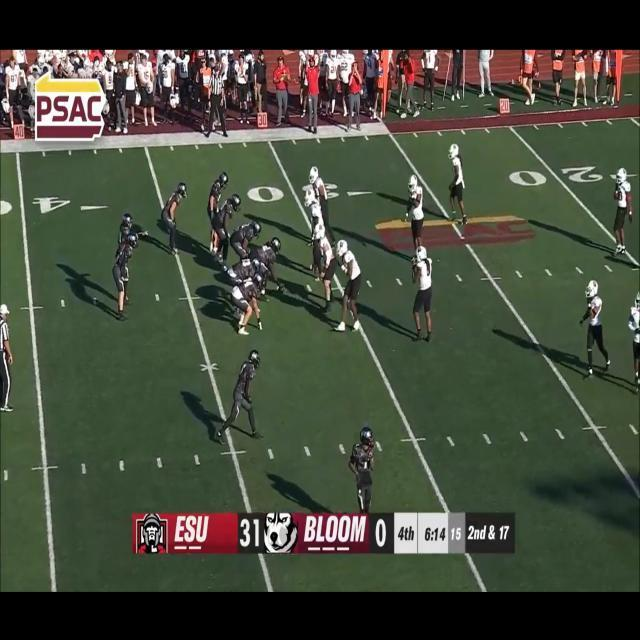football: (276, 280, 288, 302)
